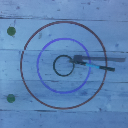Axe Tip: (70, 59, 82, 62)
